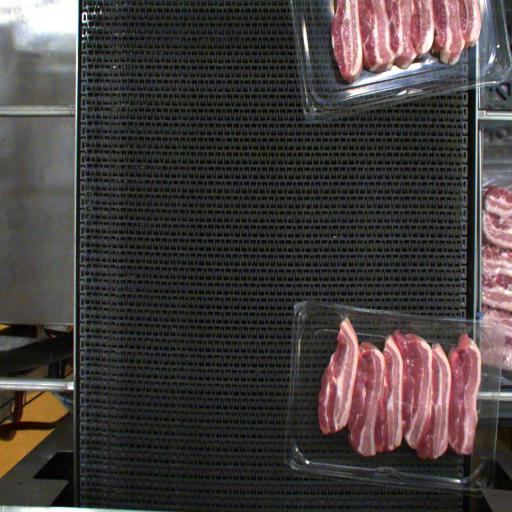packaging-error: (340, 309, 348, 321)
